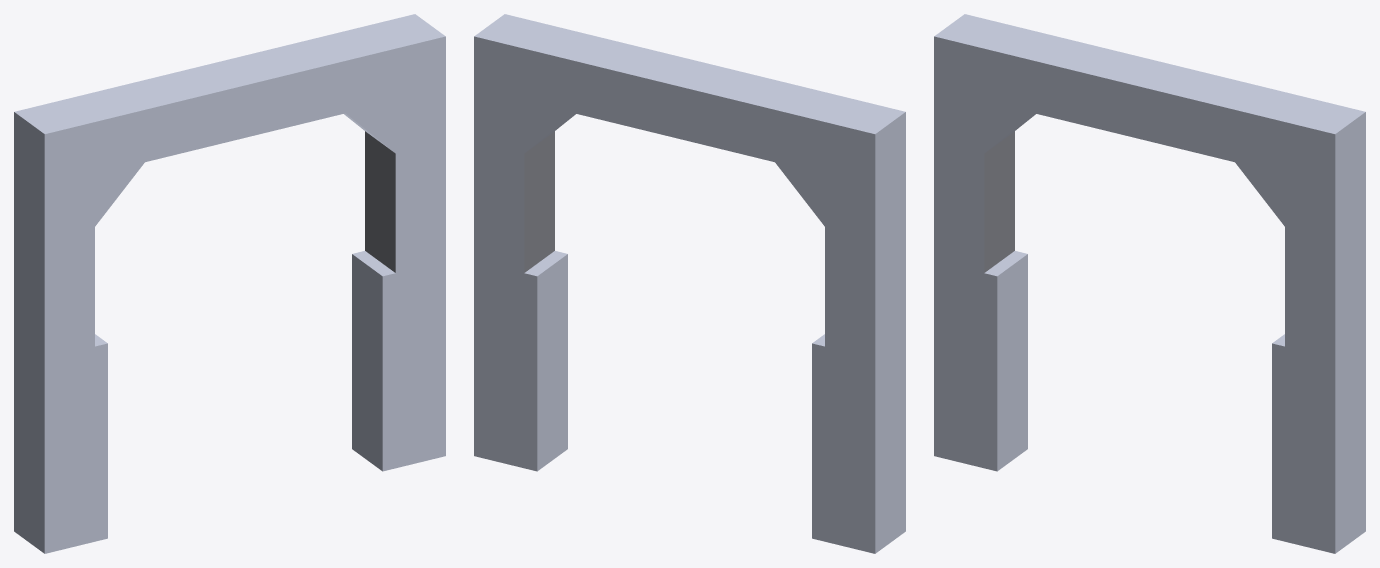
File: spaceInterior_061.obj
The picture shows the model from 3 angles, left to right: view 1: azimuth 30°, elevation 25°; view 2: azimuth 150°, elevation 25°; view 3: azimuth 330°, elevation 25°; orthographic projection.
Visible parts, largest first — view 1: Mesh1 Group1 Model; view 2: Mesh1 Group1 Model; view 3: Mesh1 Group1 Model.
Part boxes in pixels (x1,y1,x2,y2): Mesh1 Group1 Model: [14, 14, 445, 553]; Mesh1 Group1 Model: [474, 14, 905, 553]; Mesh1 Group1 Model: [934, 14, 1365, 553].
Size of the model in its own units: 1 by 1 by 0.1324.
